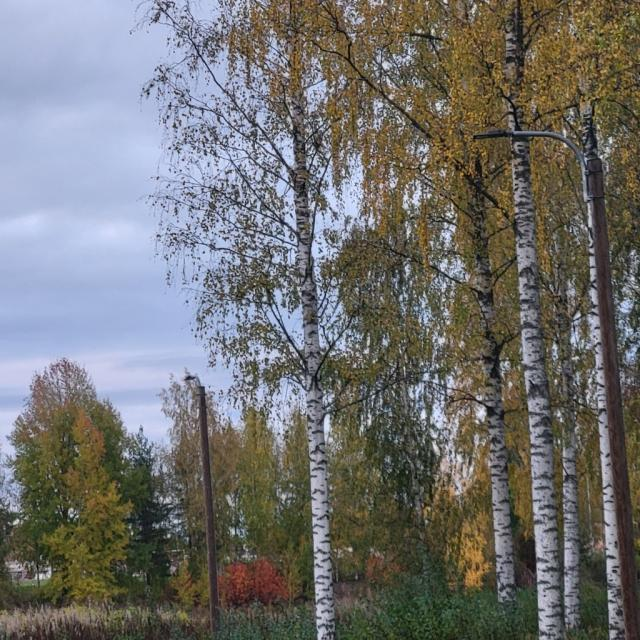Birch: (503, 5, 565, 638), (287, 0, 335, 638), (585, 206, 627, 640), (472, 203, 515, 605), (560, 318, 580, 625)
